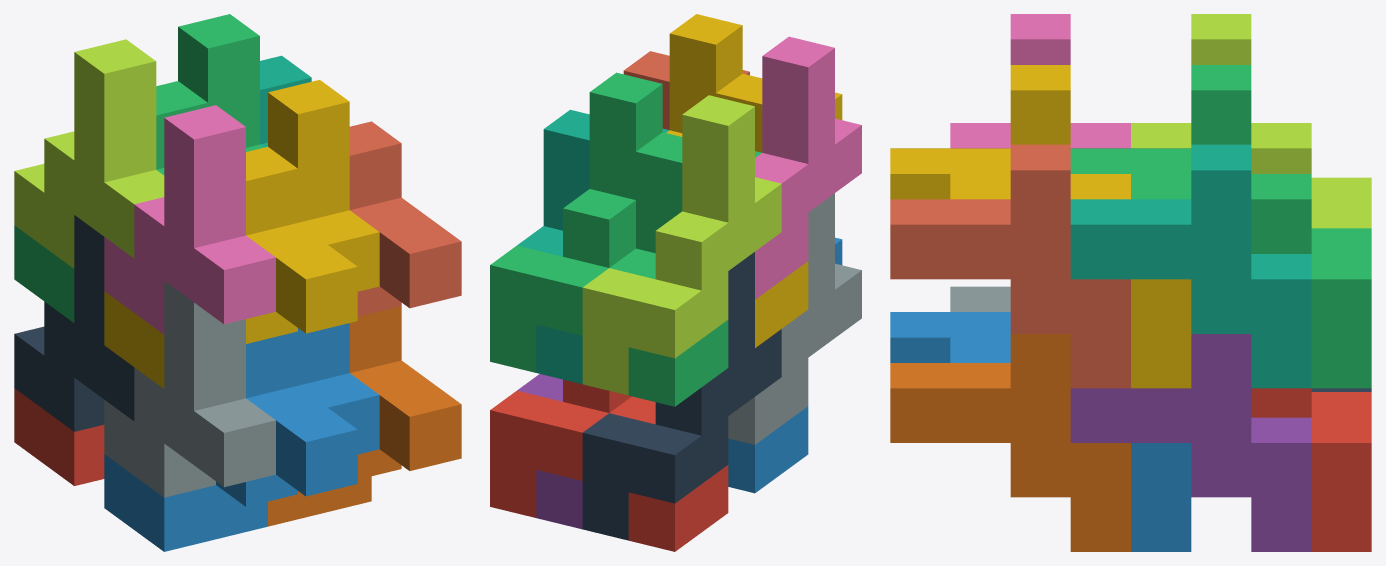
The model's file is tiling.obj.
3 renders of one model, left to right at view 1: azimuth 30°, elevation 25°; view 2: azimuth 150°, elevation 25°; view 3: azimuth 270°, elevation 25°, orthographic. The views are drawn at different scales.
Parts seen in each view (by area): view 1: copy_2_domain_4, copy_2_domain_2, copy_2_domain_3, copy_1_domain_2, copy_1_domain_4, copy_1_domain_6, copy_2_domain_1, copy_1_domain_8, copy_2_domain_8, copy_2_domain_7, copy_2_domain_6, copy_1_domain_3 (+2 smaller); view 2: copy_2_domain_3, copy_2_domain_7, copy_2_domain_1, copy_2_domain_4, copy_2_domain_5, copy_2_domain_2, copy_1_domain_3, copy_1_domain_7, copy_2_domain_8, copy_1_domain_1, copy_1_domain_4, copy_1_domain_2 (+2 smaller); view 3: copy_1_domain_7, copy_1_domain_8, copy_1_domain_6, copy_1_domain_5, copy_2_domain_7, copy_2_domain_8, copy_2_domain_5, copy_2_domain_3, copy_2_domain_6, copy_2_domain_4, copy_1_domain_4, copy_1_domain_2 (+2 smaller).
Part boxes in pixels (bbox=[...]): copy_2_domain_4: bbox=[104, 105, 275, 334]; copy_2_domain_2: bbox=[104, 281, 275, 497]; copy_2_domain_3: bbox=[14, 39, 164, 268]; copy_1_domain_2: bbox=[104, 331, 357, 551]; copy_1_domain_4: bbox=[104, 146, 357, 388]; copy_1_domain_6: bbox=[268, 306, 461, 526]; copy_2_domain_1: bbox=[14, 215, 134, 431]; copy_1_domain_8: bbox=[349, 121, 461, 316]; copy_2_domain_8: bbox=[268, 80, 379, 291]; copy_2_domain_7: bbox=[178, 14, 263, 151]; copy_2_domain_6: bbox=[298, 323, 379, 454]; copy_1_domain_3: bbox=[14, 81, 207, 322]; copy_2_domain_3: bbox=[582, 95, 781, 395]; copy_2_domain_7: bbox=[490, 72, 662, 372]; copy_2_domain_1: bbox=[582, 252, 781, 540]; copy_2_domain_4: bbox=[755, 36, 861, 299]; copy_2_domain_5: bbox=[490, 379, 631, 517]; copy_2_domain_2: bbox=[728, 193, 861, 444]; copy_1_domain_3: bbox=[610, 132, 761, 406]; copy_1_domain_7: bbox=[517, 109, 669, 384]; copy_2_domain_8: bbox=[666, 14, 742, 136]; copy_1_domain_1: bbox=[609, 396, 728, 551]; copy_1_domain_4: bbox=[716, 73, 842, 347]; copy_1_domain_2: bbox=[728, 237, 842, 493]; copy_1_domain_7: bbox=[1070, 144, 1311, 388]; copy_1_domain_8: bbox=[890, 144, 1130, 388]; copy_1_domain_6: bbox=[890, 334, 1130, 551]; copy_1_domain_5: bbox=[1070, 334, 1311, 551]; copy_2_domain_7: bbox=[1131, 65, 1371, 388]; copy_2_domain_8: bbox=[950, 65, 1191, 388]; copy_2_domain_5: bbox=[1251, 388, 1371, 551]; copy_2_domain_3: bbox=[1131, 14, 1371, 228]; copy_2_domain_6: bbox=[950, 337, 1191, 551]; copy_2_domain_4: bbox=[950, 14, 1130, 148]; copy_1_domain_4: bbox=[890, 148, 1010, 199]; copy_1_domain_2: bbox=[890, 312, 1010, 362].
Bounding box in the file's own units: 4 × 8 × 8.
